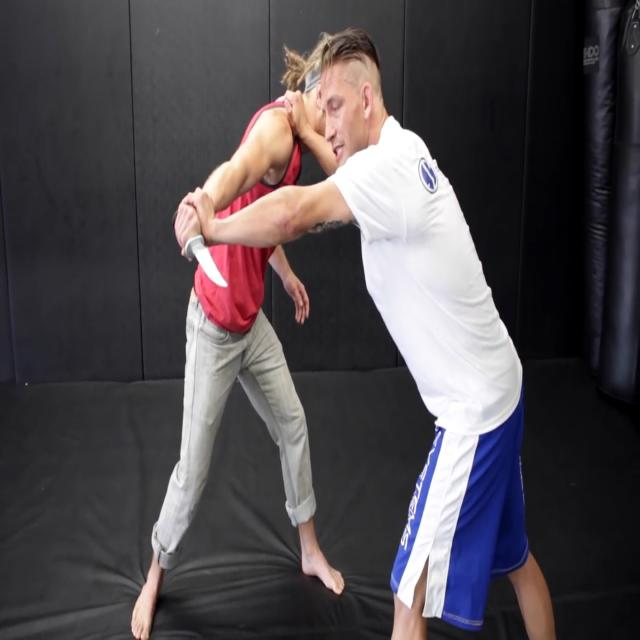knife: (184, 234, 236, 299)
